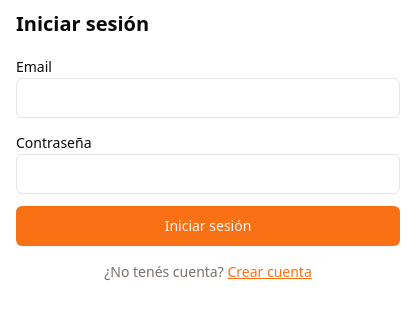
Test: LoginPage › shows an error message when credentials are invalid
The width and height of the screenshot is (417, 330).
Click the button "Iniciar sesión": (208, 226) [16,206,400,246]
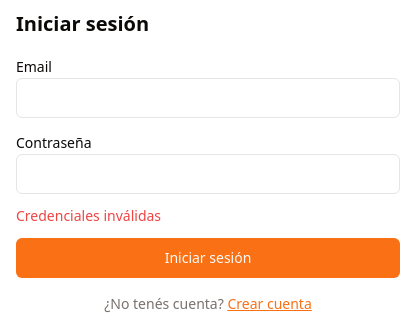
Result: the text "Credenciales inválidas" is shown at [16,206,161,225]
